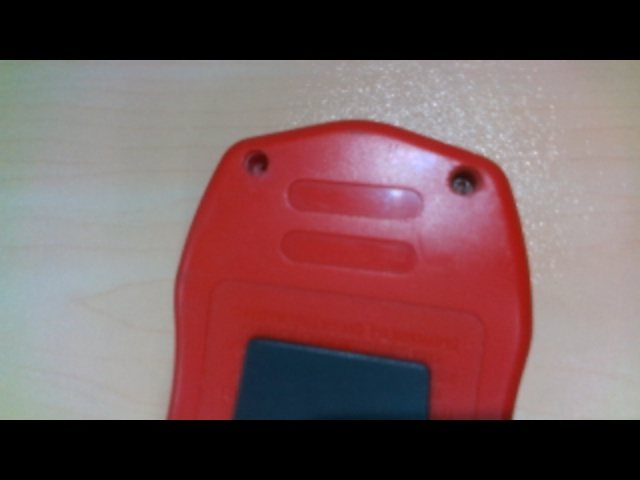Screw holes: (447, 162, 486, 202), (244, 148, 275, 179)
